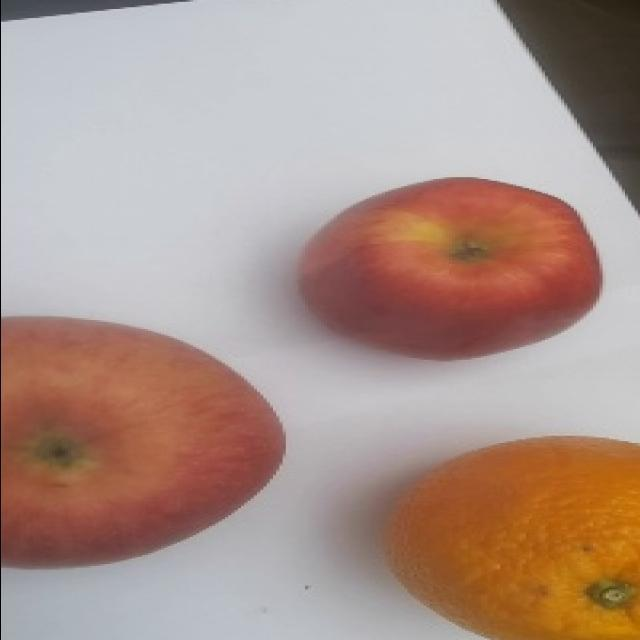Apple: (0, 314, 286, 569), (296, 175, 603, 361)
Orange: (386, 433, 639, 639)
